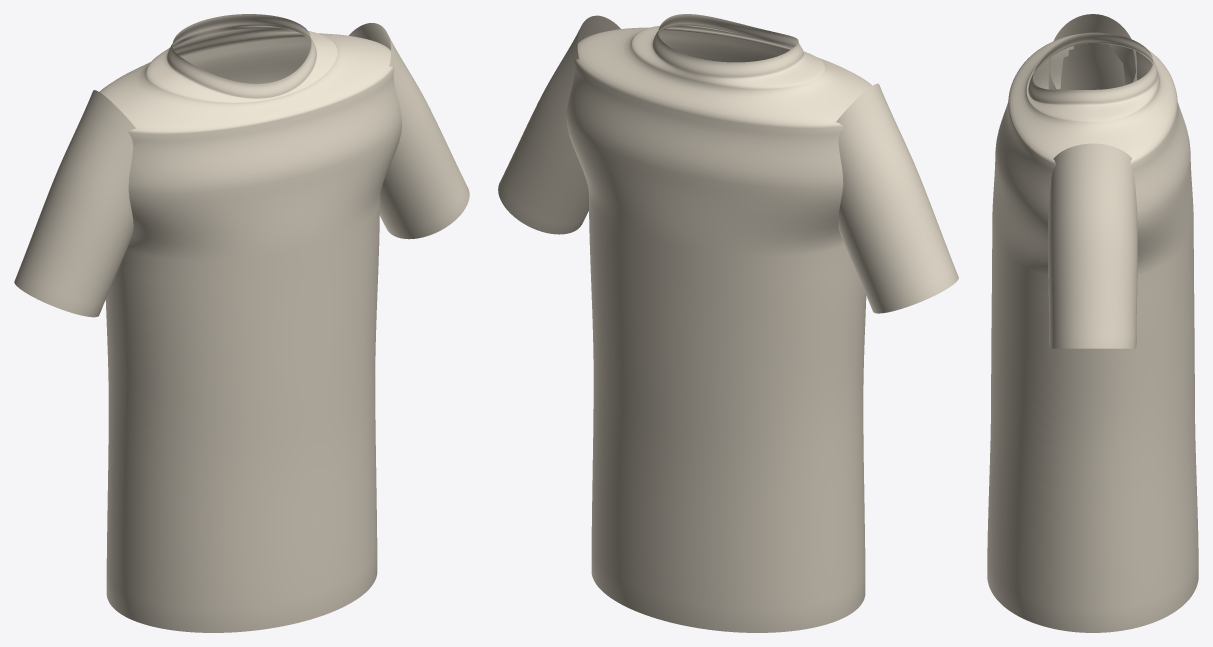
The model's file is demo-relaxed-tee--ecru--xs.r2.glb.
3 views of the same model, side by side, from view 1: azimuth 30°, elevation 25°; view 2: azimuth 150°, elevation 25°; view 3: azimuth 270°, elevation 25° (orthographic). The views are drawn at different scales.
Visible parts, largest first — view 1: demo-relaxed-tee--ecru--xs; view 2: demo-relaxed-tee--ecru--xs; view 3: demo-relaxed-tee--ecru--xs.
Part boxes in pixels (x1,y1,x2,y2): demo-relaxed-tee--ecru--xs: (14,14,469,632); demo-relaxed-tee--ecru--xs: (498,14,958,632); demo-relaxed-tee--ecru--xs: (987,14,1198,632).
Bounding box in the file's own units: 0.5868 × 0.686 × 0.2557.
